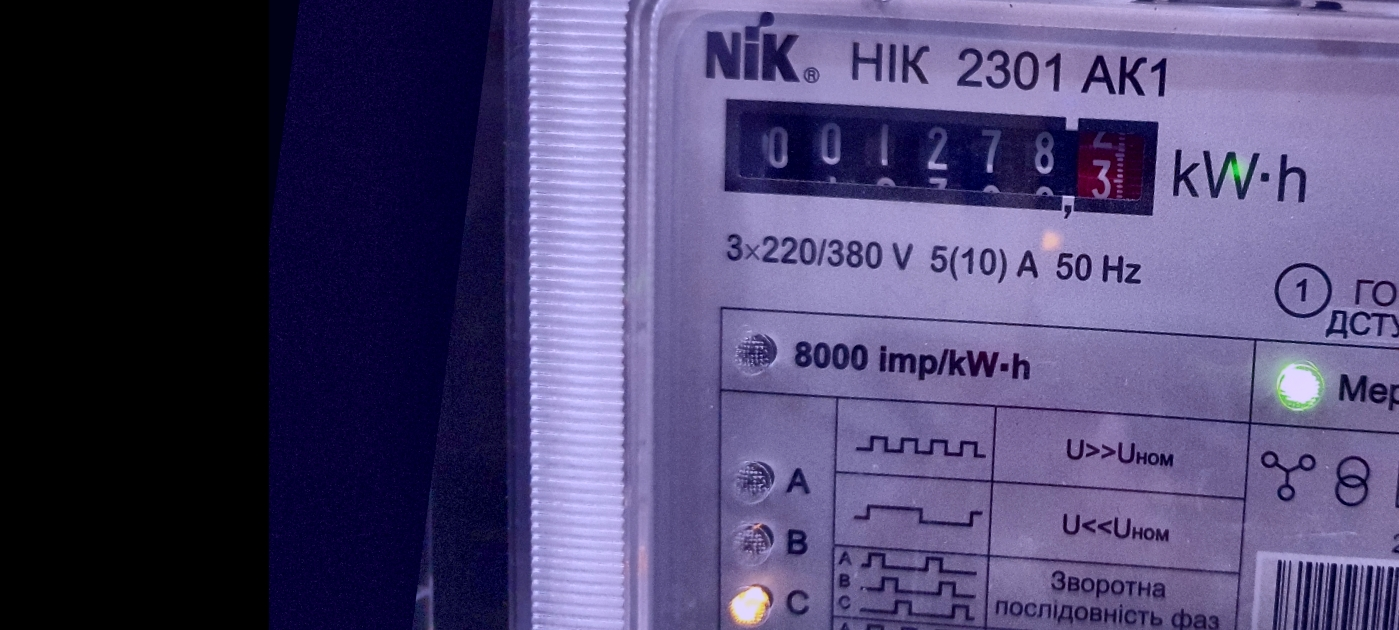0: (763, 120, 796, 171), (815, 118, 847, 168)
1: (873, 119, 897, 167)
2: (922, 124, 954, 173), (1090, 128, 1116, 150)
3: (1086, 155, 1117, 202)
7: (975, 125, 1003, 174)
8: (1030, 129, 1060, 175)
screen: (700, 53, 1183, 259)
